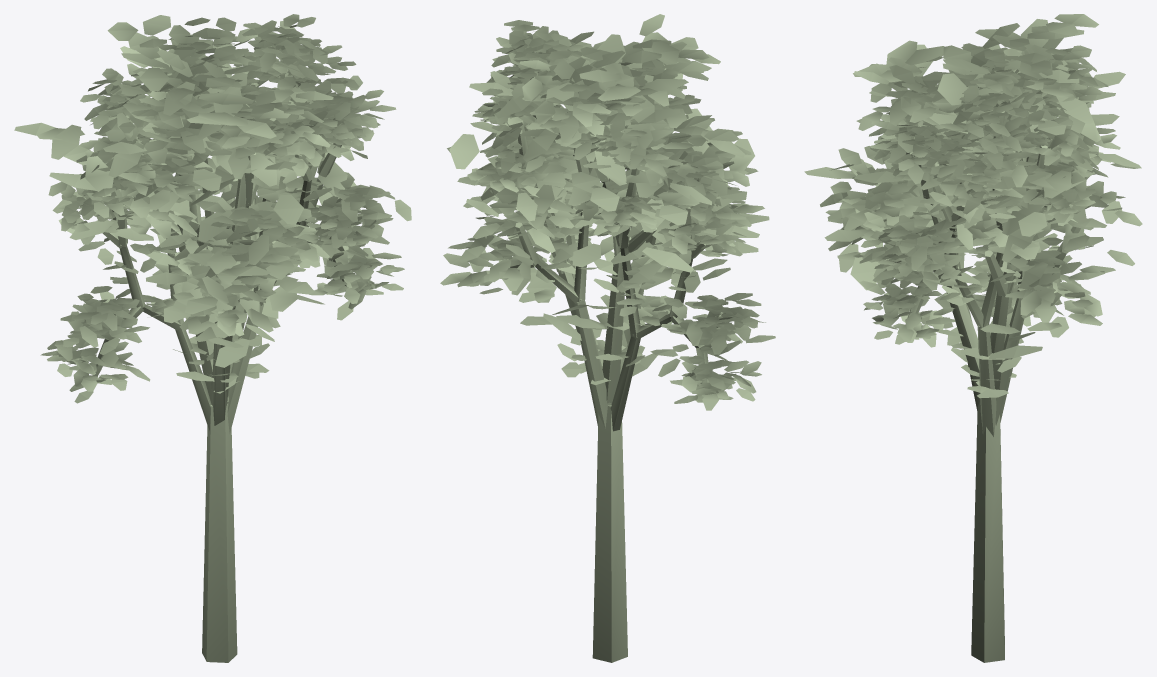
The model's file is tree_def_oval.glb.
3 views of the same model, side by side, from view 1: azimuth 30°, elevation 25°; view 2: azimuth 150°, elevation 25°; view 3: azimuth 270°, elevation 25° (orthographic).
Parts seen in each view (by area): view 1: tier2_foliage, tier1_foliage, tier0_foliage, tier0_bark, tier2_bark, tier1_bark; view 2: tier2_foliage, tier1_foliage, tier0_foliage, tier0_bark, tier2_bark, tier1_bark; view 3: tier2_foliage, tier1_foliage, tier0_foliage, tier0_bark, tier2_bark, tier1_bark.
Part boxes in pixels (x1,y1,x2,y2): tier2_foliage: [40, 14, 411, 403]; tier1_foliage: [114, 17, 333, 393]; tier0_foliage: [14, 15, 356, 367]; tier0_bark: [170, 136, 256, 662]; tier2_bark: [92, 60, 355, 433]; tier1_bark: [169, 152, 263, 425]; tier2_foliage: [467, 20, 775, 410]; tier1_foliage: [440, 14, 764, 385]; tier0_foliage: [447, 31, 769, 345]; tier0_bark: [544, 178, 656, 662]; tier2_bark: [516, 71, 711, 431]; tier1_bark: [510, 142, 655, 428]; tier2_foliage: [859, 48, 1120, 392]; tier1_foliage: [820, 23, 1142, 398]; tier0_foliage: [804, 14, 1141, 359]; tier0_bark: [931, 151, 1021, 662]; tier2_bark: [908, 111, 1051, 436]; tier1_bark: [876, 145, 1080, 425].
Size of the model in its own units: 0.5215 by 1 by 0.4988.
